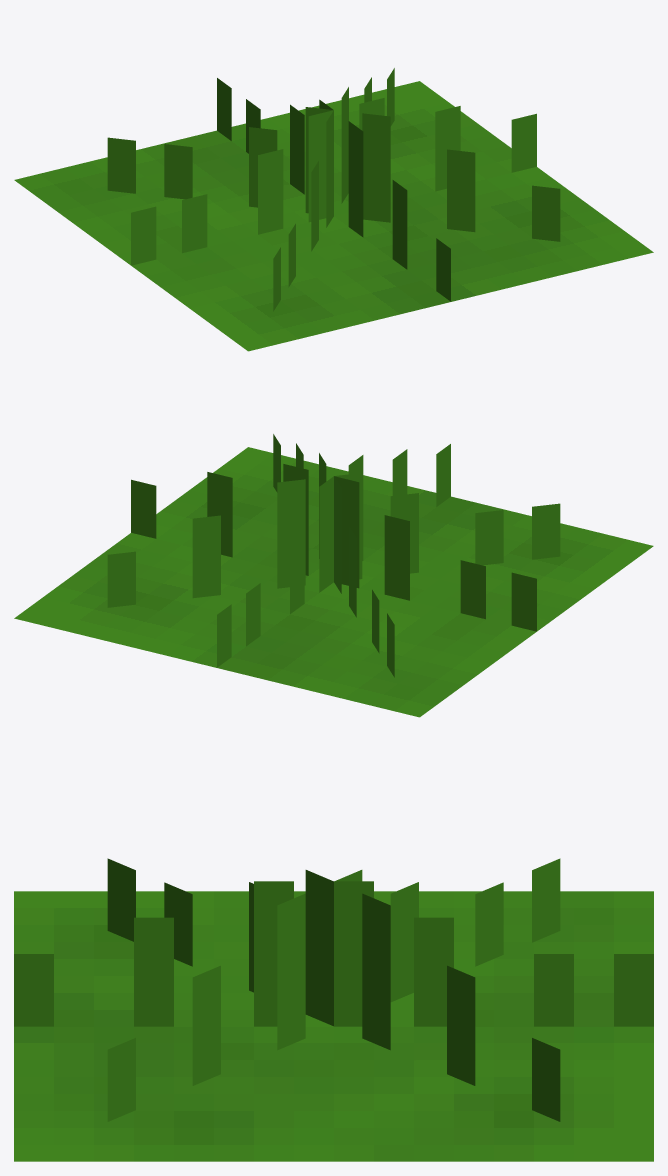
The model's file is grass.fbx.
3 renders of one model, top to bottom at view 1: azimuth 30°, elevation 25°; view 2: azimuth 150°, elevation 25°; view 3: azimuth 270°, elevation 25°, orthographic. The views are drawn at different scales.
Visible parts, largest first — view 1: cube, cube_4, cube_2, cube_1, cube_3; view 2: cube, cube_3, cube_2, cube_1, cube_4; view 3: cube, cube_1, cube_3, cube_4.
Boxes of the visible parts, x1,y1,x2,y2 form: cube: (14, 81, 653, 351); cube_4: (107, 107, 560, 241); cube_2: (131, 98, 536, 265); cube_1: (217, 78, 450, 301); cube_3: (273, 68, 394, 311); cube: (14, 447, 653, 717); cube_3: (107, 473, 560, 607); cube_2: (131, 464, 536, 631); cube_1: (217, 444, 450, 667); cube_4: (273, 434, 394, 677); cube: (14, 891, 653, 1161); cube_1: (14, 881, 653, 1026); cube_3: (107, 858, 560, 1121); cube_4: (107, 858, 560, 1121).
Size of the model in its own units: 100 by 25 by 100.
